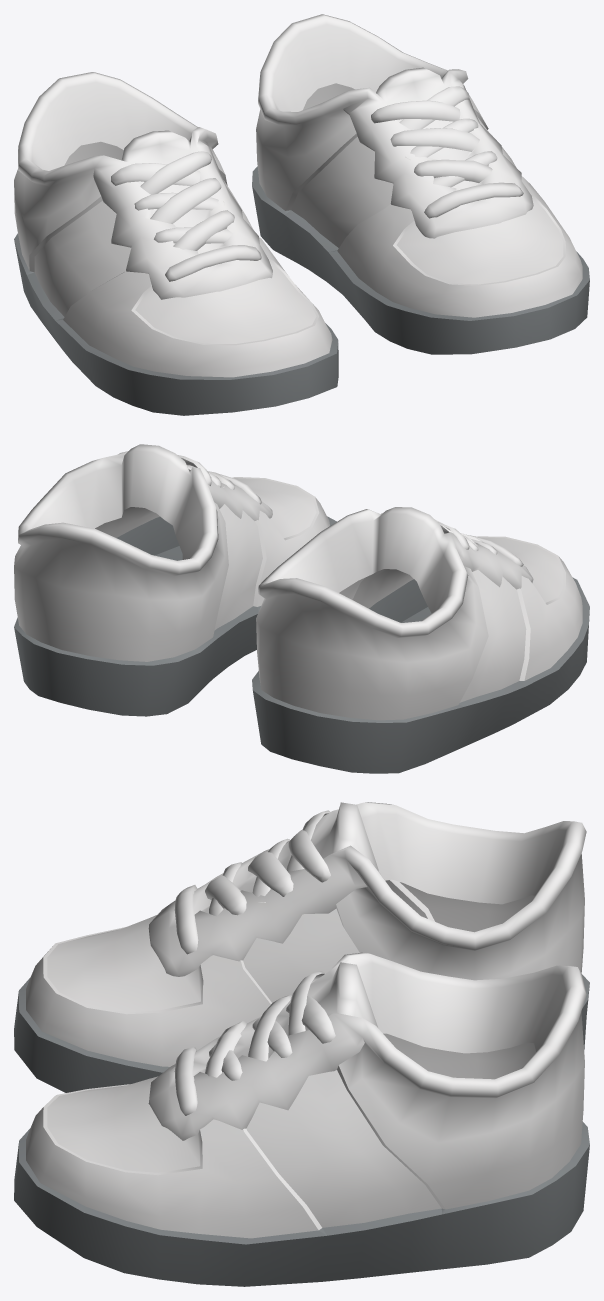
Rendered from Shoe_Sneakers_15.glb.
The picture shows the model from 3 angles, top to bottom: view 1: azimuth 30°, elevation 25°; view 2: azimuth 150°, elevation 25°; view 3: azimuth 270°, elevation 25°; orthographic projection. The views are drawn at different scales.
Visible parts, largest first — view 1: Shoe_Sneakers_15; view 2: Shoe_Sneakers_15; view 3: Shoe_Sneakers_15.
Part boxes in pixels (<box>): Shoe_Sneakers_15: <box>14,14,589,415</box>; Shoe_Sneakers_15: <box>14,444,589,773</box>; Shoe_Sneakers_15: <box>14,802,589,1286</box>.
Size of the model in its own units: 0.2585 by 0.1045 by 0.2133.
1 material, 1 textured.
